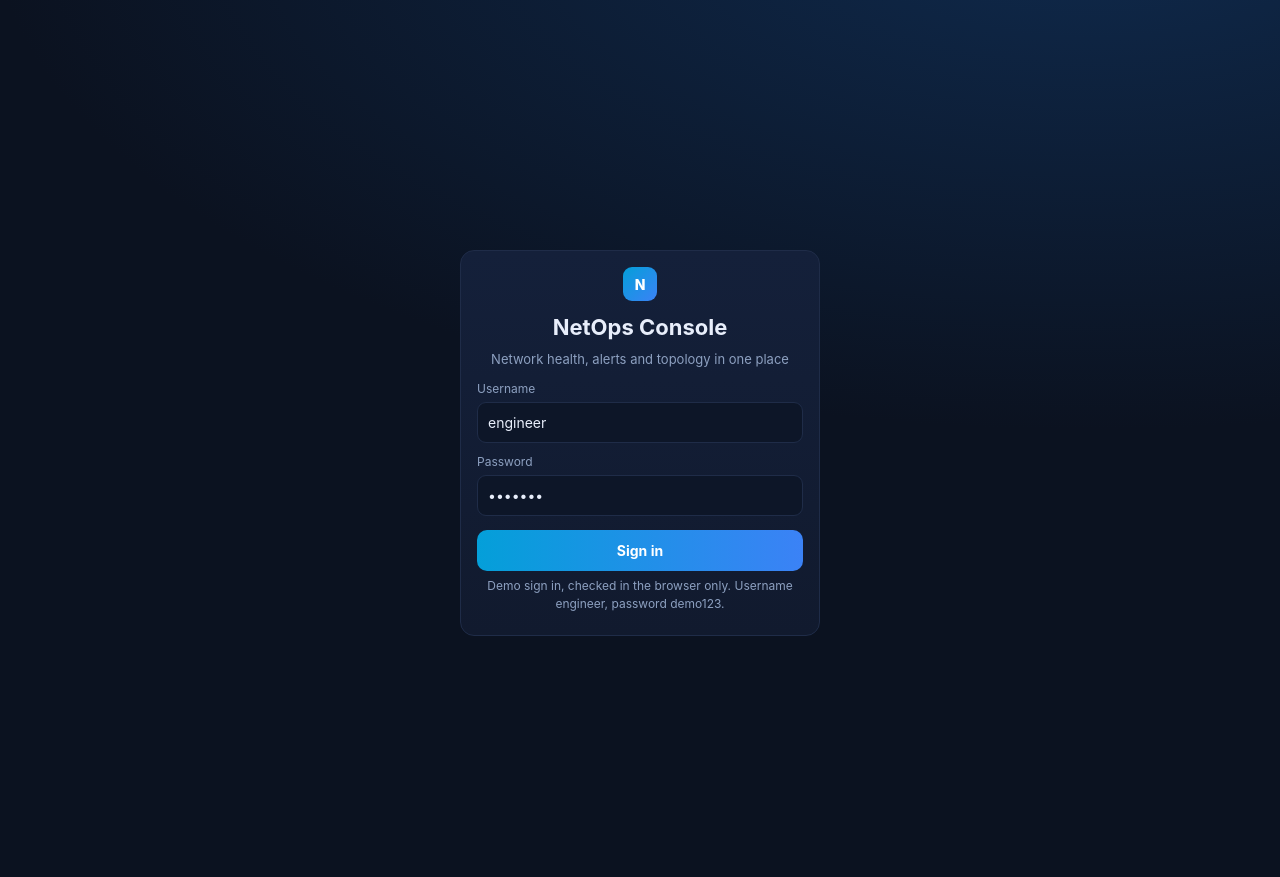
Test: App › opens the device drawer, acknowledges the alert and closes it
Later steps or results of the test are not shown.
Click the button "Sign in".
click(640, 550)  # box top-left (477, 530), bottom-right (803, 571)
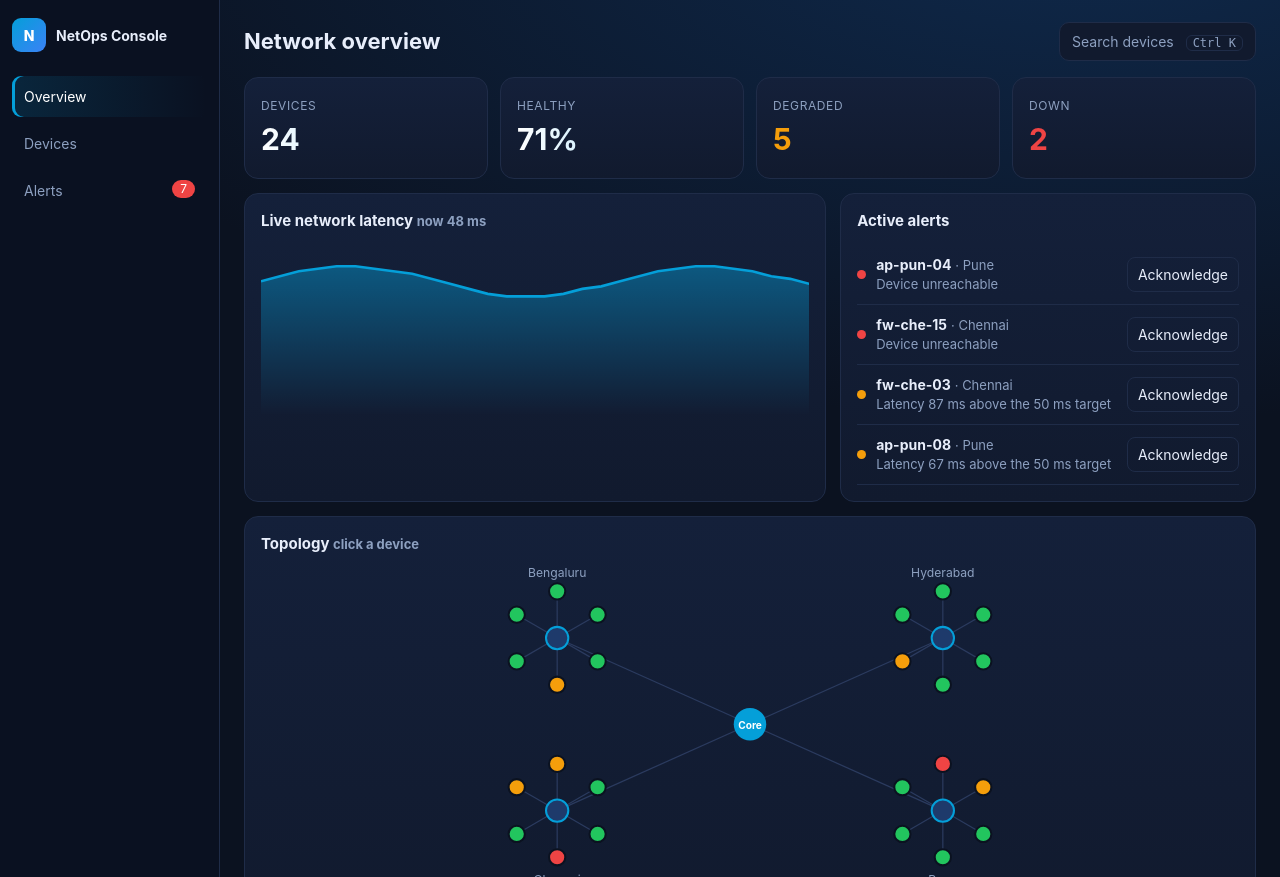
Click the button "Devices".
click(110, 144)  # box top-left (12, 123), bottom-right (207, 164)
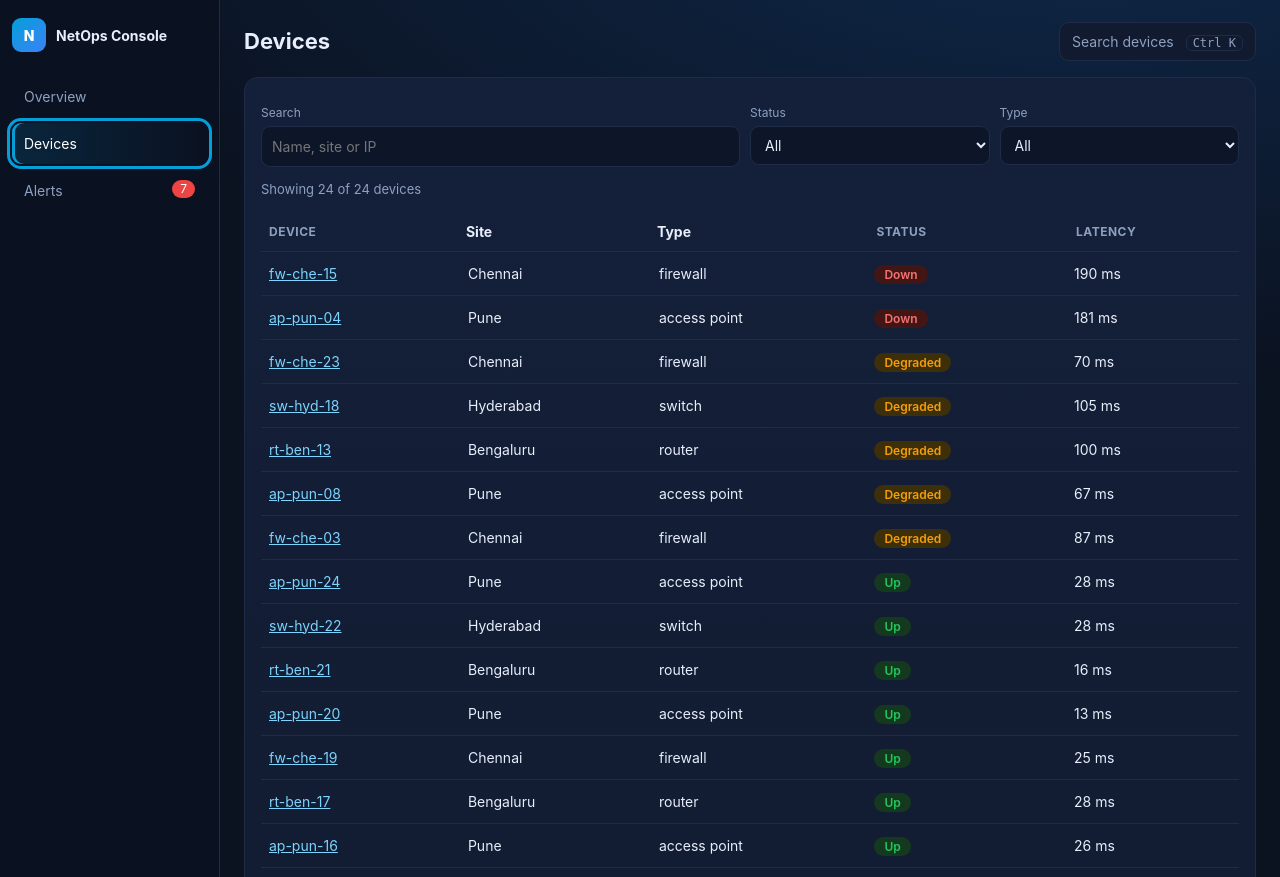
Click the button "fw-che-15".
click(303, 273)  # box top-left (267, 260), bottom-right (339, 286)
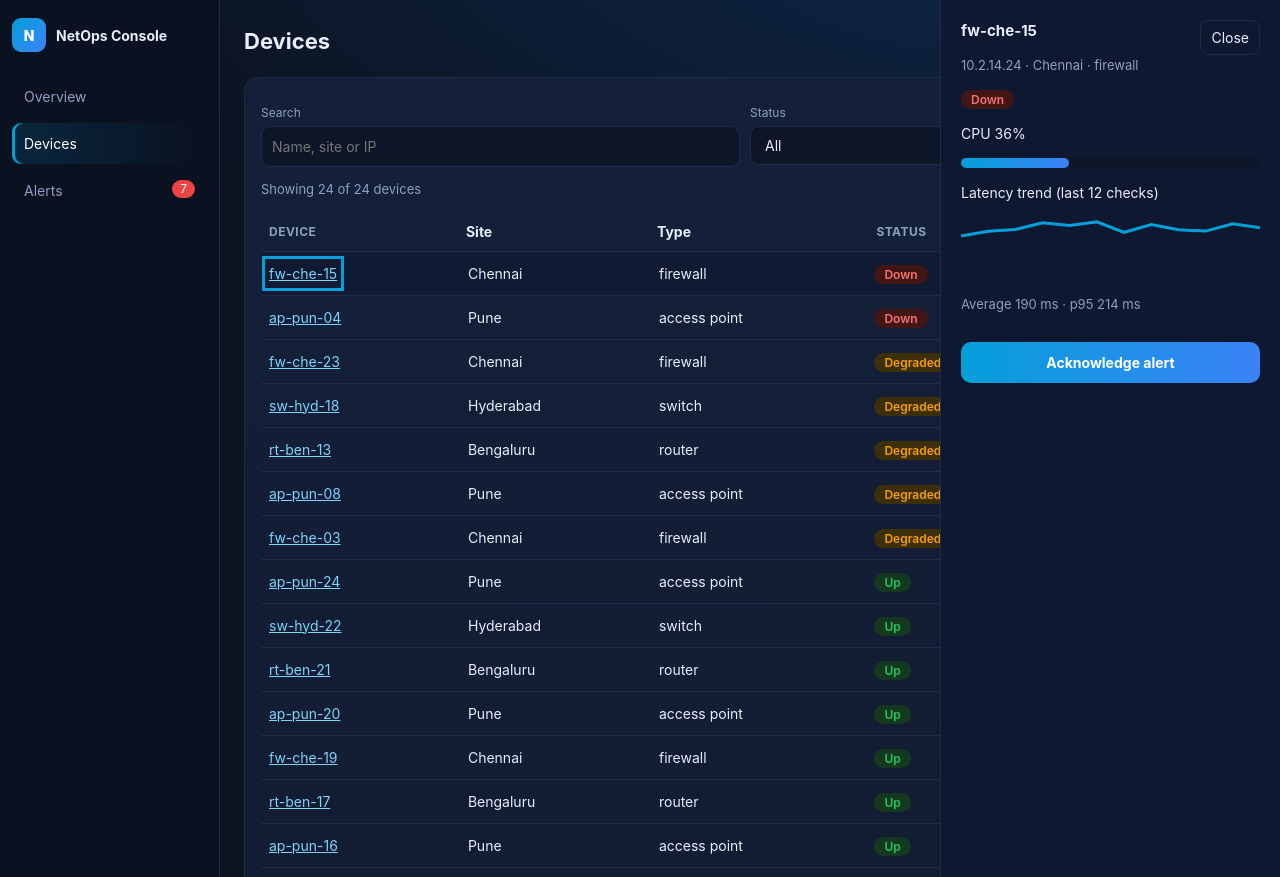
Expected: the element named "device details" shows "Latency trend", top-left (961, 184), bottom-right (1159, 201)
Click the button "Acknowledge alert".
click(1110, 362)  # box top-left (961, 342), bottom-right (1260, 382)
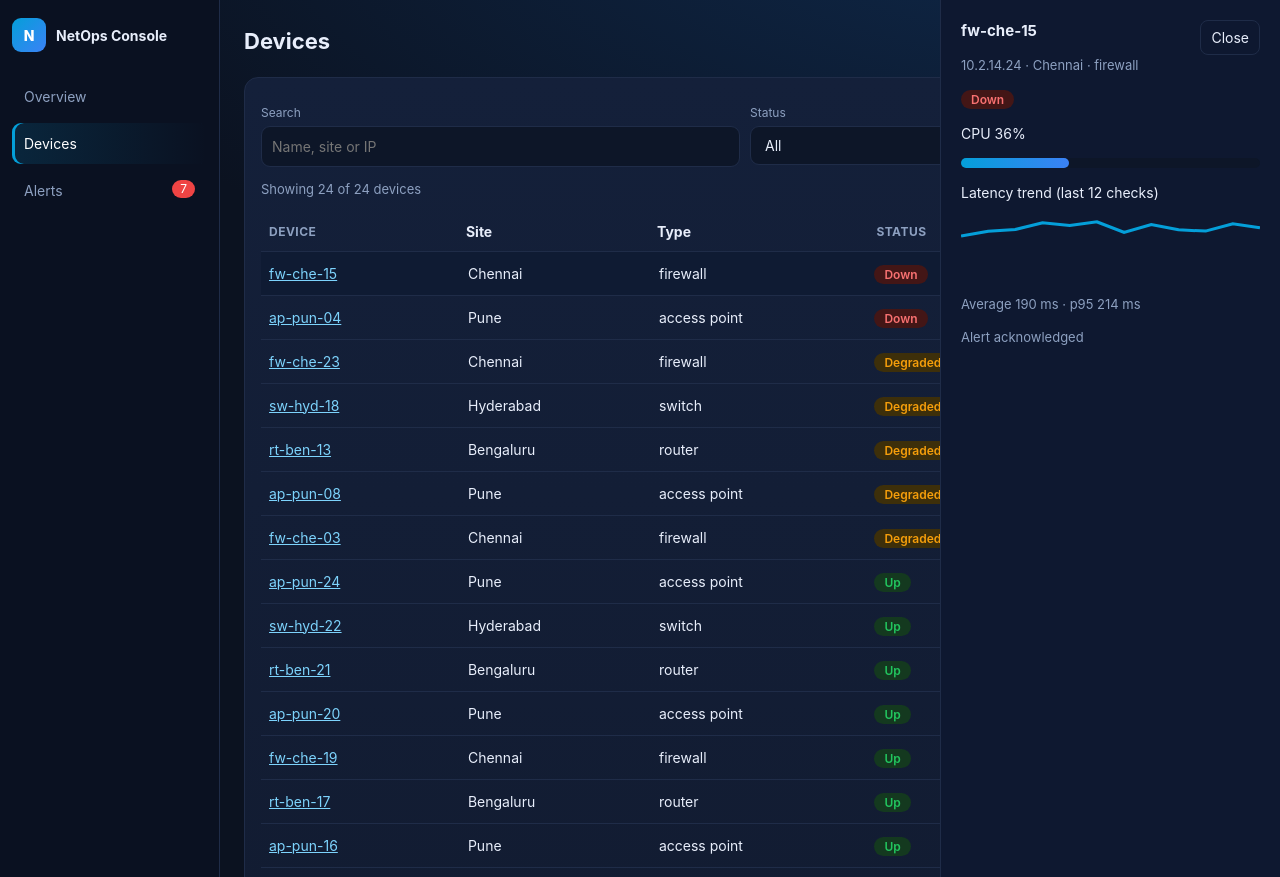
Expected: the element named "device details" shows "alert acknowledged", top-left (961, 328), bottom-right (1084, 344)
